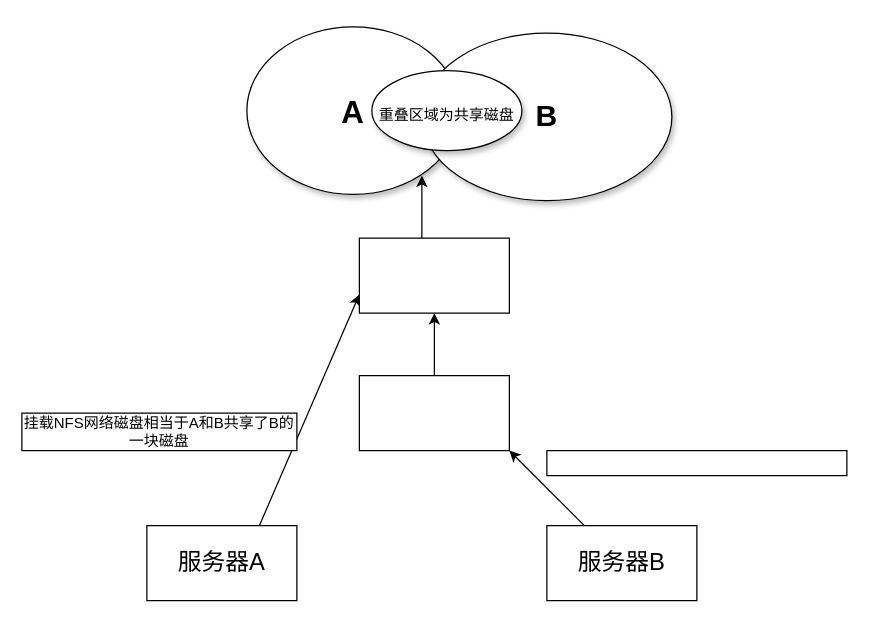
Image size: 869x623. Some labels were removed from this diagram. Here are the shapes that lost their labels. From the top down, the centre of each, then its label:
At pixel 433 275: "开辟网络磁盘".
At pixel 433 412: "NFS".
At pixel 696 462: "安装NFS服务,开辟一块内存作为网络磁盘".
